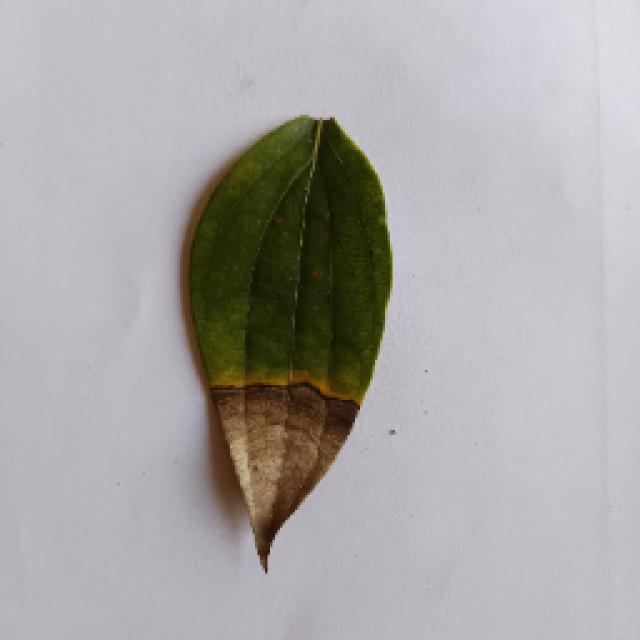footrot: (185, 112, 393, 578)
